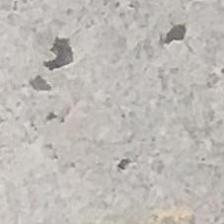Crack: (25, 30, 109, 124)
Non_Crack: (32, 146, 198, 224)
